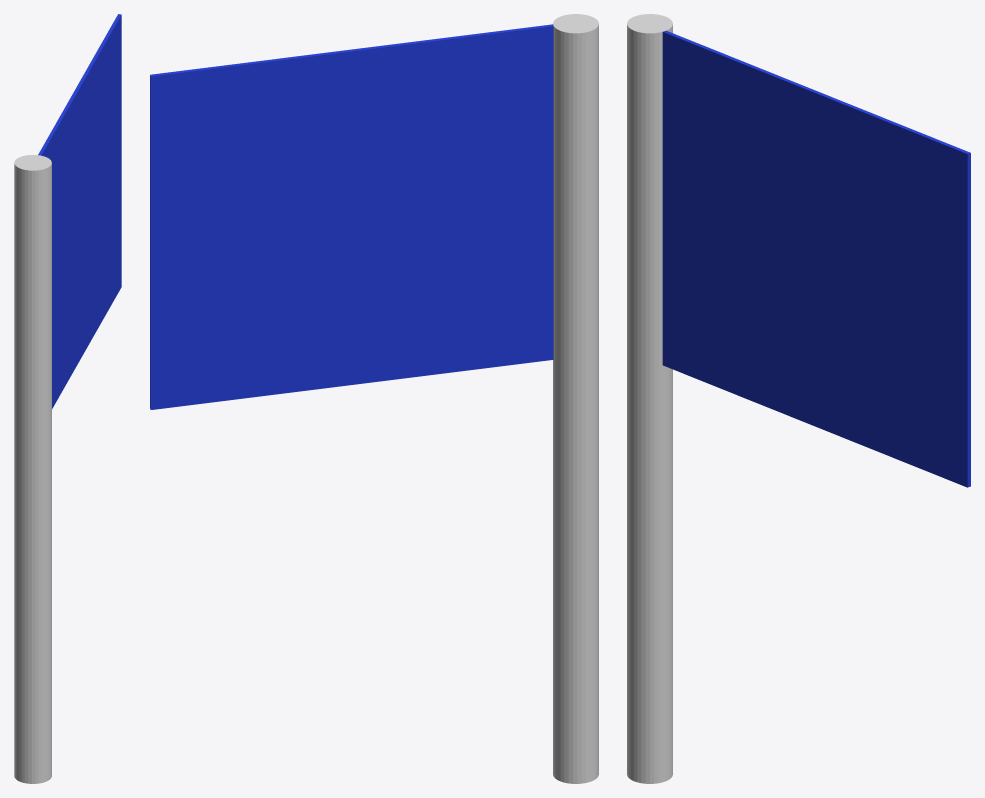
The model's file is flag_fbx.fbx.
3 renders of one model, left to right at view 1: azimuth 30°, elevation 25°; view 2: azimuth 150°, elevation 25°; view 3: azimuth 270°, elevation 25°, orthographic. The views are drawn at different scales.
Visible parts, largest first — view 1: Cylinder; view 2: Cylinder; view 3: Cylinder.
Part boxes in pixels (x1,y1,x2,y2): Cylinder: (14, 14, 121, 783); Cylinder: (150, 14, 598, 783); Cylinder: (627, 14, 970, 783).
Bounding box in the file's own units: 72.05 × 180 × 74.77.
